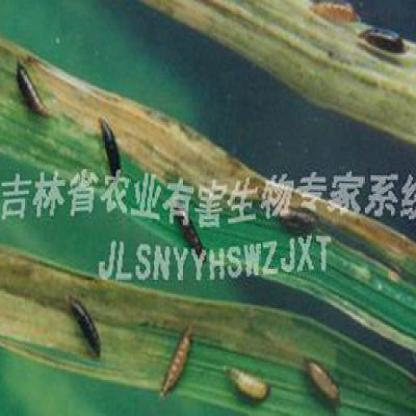whorl-maggot: (152, 322, 198, 403), (62, 291, 105, 364), (298, 348, 346, 407), (14, 60, 53, 127), (222, 356, 273, 407), (358, 18, 406, 56), (95, 113, 124, 166), (304, 0, 358, 27)
